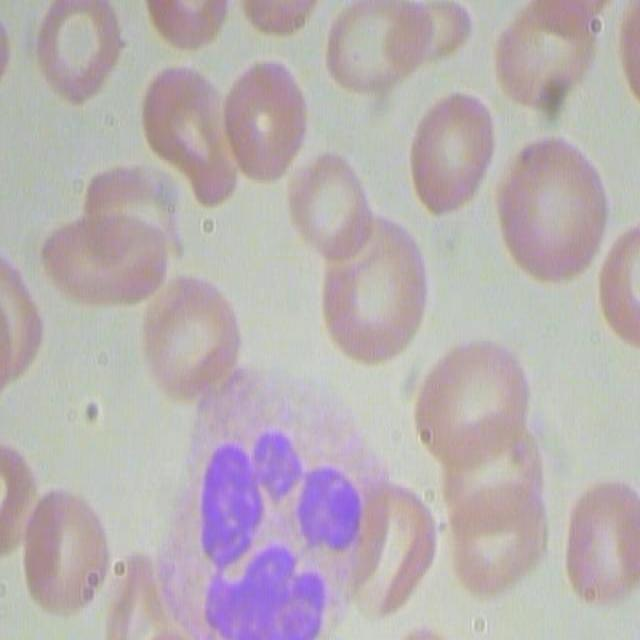RBC: (438, 390, 559, 597), (46, 161, 180, 321), (313, 215, 429, 362), (498, 134, 610, 286), (340, 460, 436, 621), (413, 336, 535, 461), (141, 272, 243, 402), (20, 490, 112, 616), (491, 0, 595, 111), (217, 56, 306, 185), (408, 90, 498, 213), (318, 1, 427, 102), (558, 482, 640, 606), (28, 1, 122, 107), (284, 150, 369, 256), (0, 252, 43, 396), (598, 210, 640, 349), (0, 426, 33, 566), (139, 0, 234, 48), (234, 0, 328, 34)
WBC: (202, 439, 346, 635)
